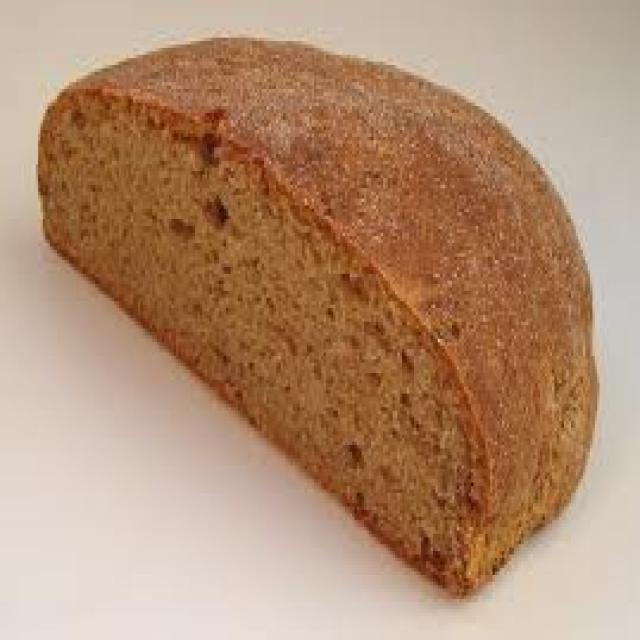bread: (28, 21, 600, 596)
